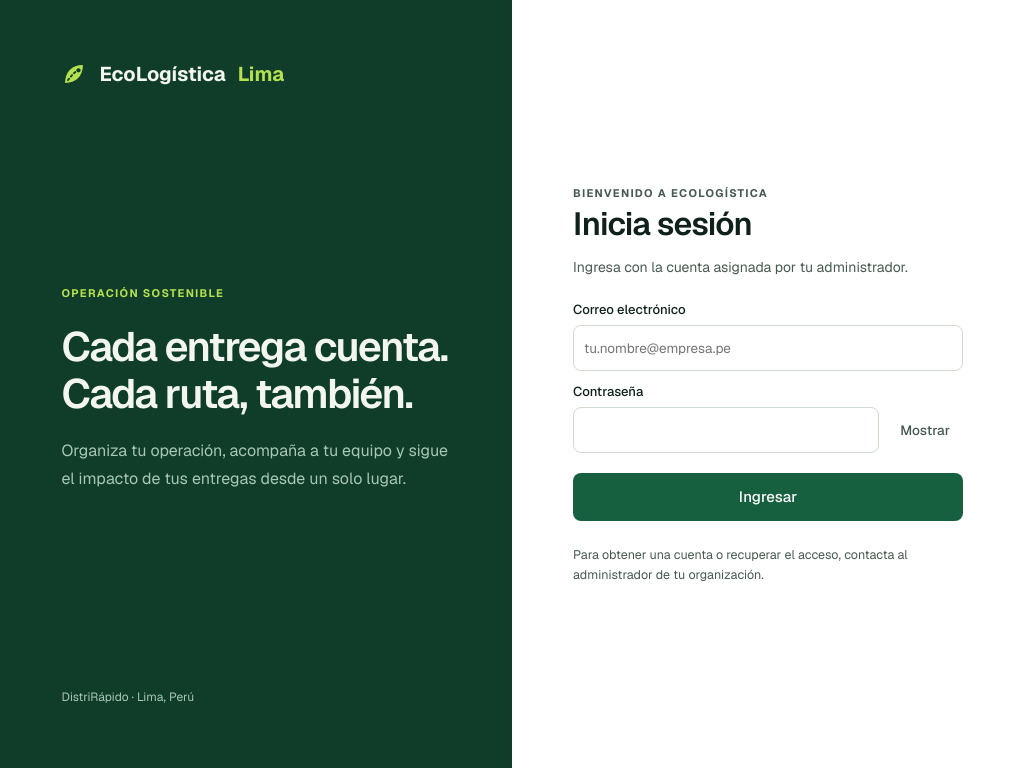
it: Inicio y cierre de sesión › muestra el rechazo sin autenticar al usuario
Type "admin@empresa.pe" into the field labelled "Correo electrónico".
click(768, 348); type("admin@empresa.pe")  # box [573,325,963,371]
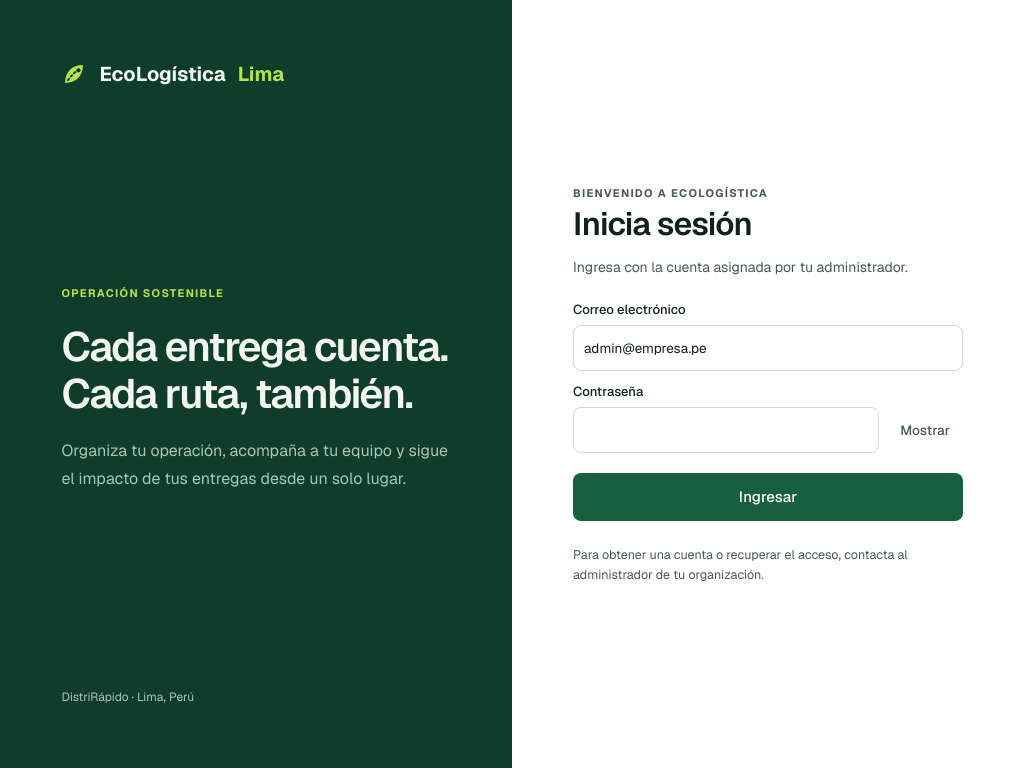
Type "incorrecta" into the password field labelled "Contraseña".
click(726, 430); type("incorrecta")  # box [573,407,879,453]
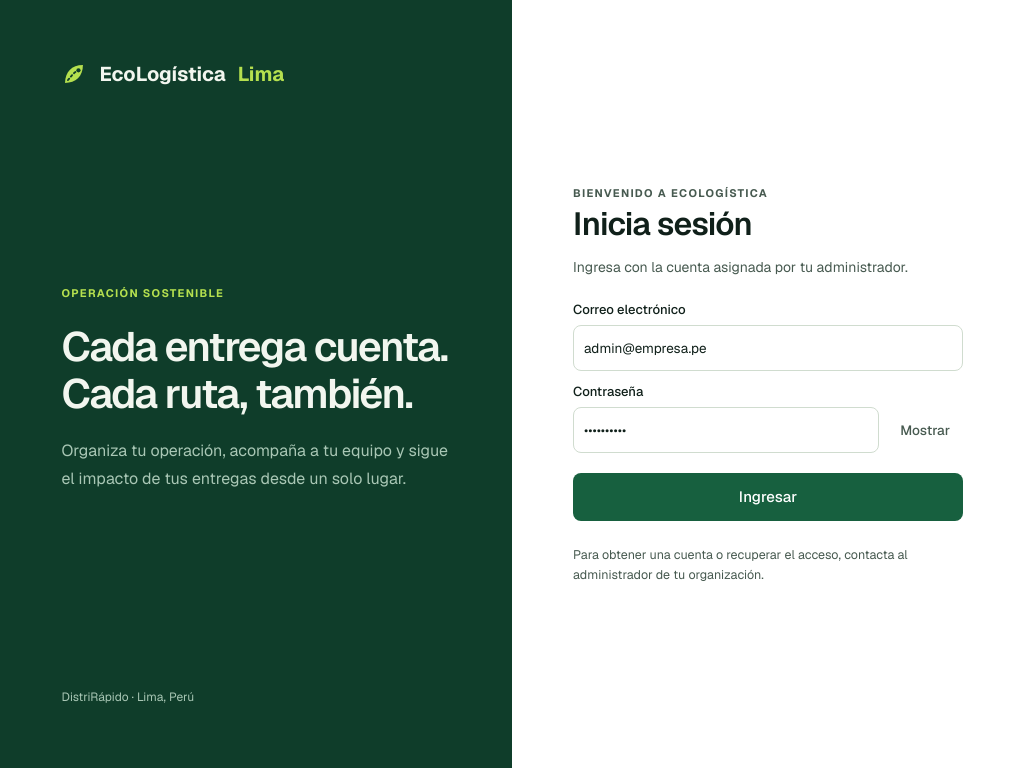
Click the button "Ingresar".
click(768, 497)  # box [573,473,963,521]
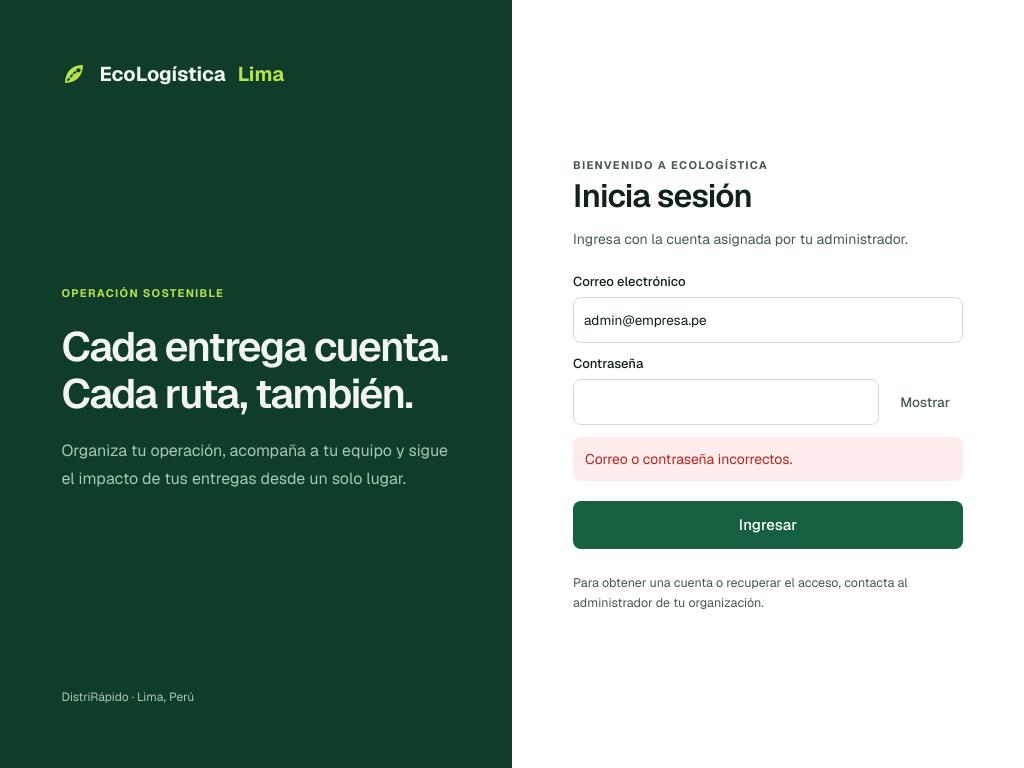
Expected: the button "Ingresar" is enabled, [573,501,963,549]
Now the message reads "Correo o contraseña incorrectos.", box [585,450,792,468]
Now the password field labelled "Contraseña" is empty, box [573,379,879,425]
